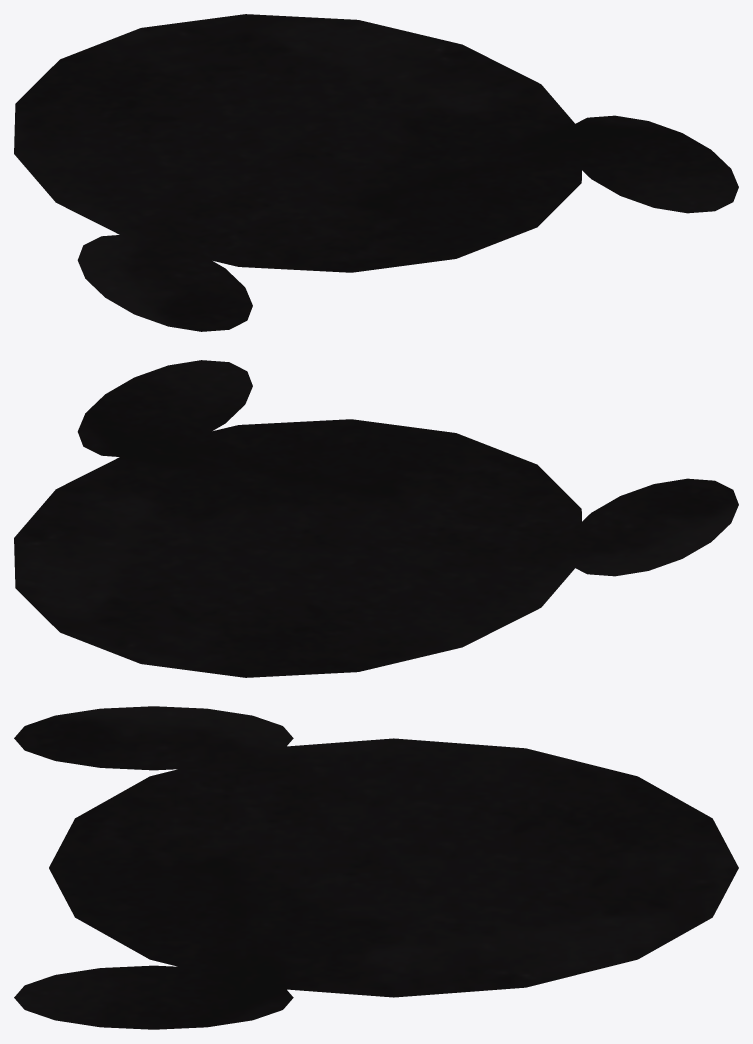
File: skeleton_shadow_GEO_01.fbx
3 views of the same model, one above another, from view 1: azimuth 30°, elevation 25°; view 2: azimuth 150°, elevation 25°; view 3: azimuth 270°, elevation 25° (orthographic). The views are drawn at different scales.
Parts seen in each view (by area): view 1: skeleton_shadow_GEO_01; view 2: skeleton_shadow_GEO_01; view 3: skeleton_shadow_GEO_01.
Boxes of the visible parts, x1,y1,x2,y2 form: skeleton_shadow_GEO_01: (14,14,738,331); skeleton_shadow_GEO_01: (14,360,738,677); skeleton_shadow_GEO_01: (14,706,738,1029).
Bounding box in the file's own units: 6.34 × 0 × 6.01.
Materials: 1 (1 with a texture image).
